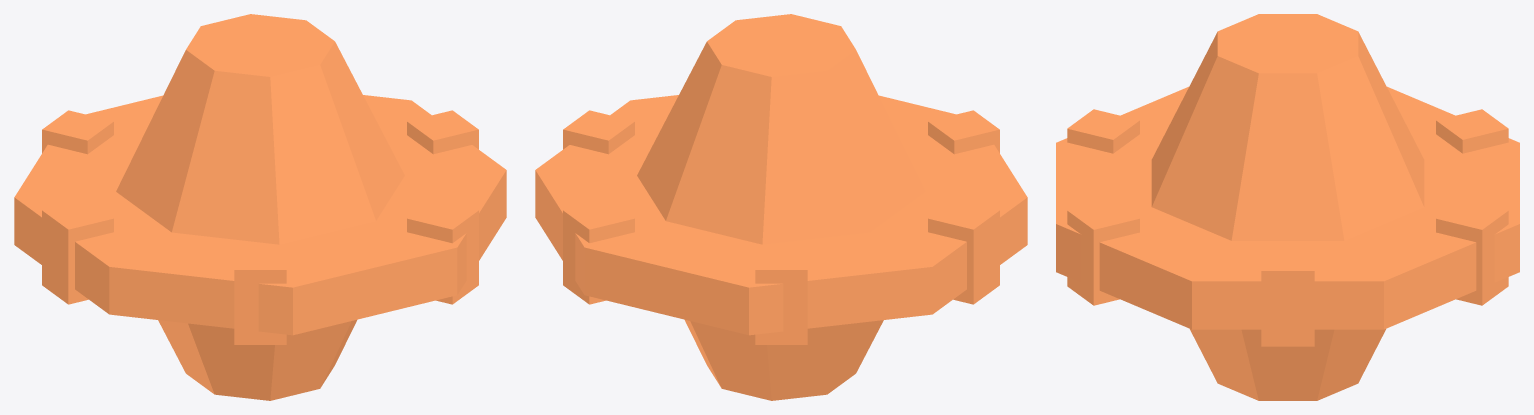
File: enemy_projectile_lobbed.glb
3 renders of one model, left to right at view 1: azimuth 30°, elevation 25°; view 2: azimuth 150°, elevation 25°; view 3: azimuth 270°, elevation 25°, orthographic.
Visible parts, largest first — view 1: enemy_projectile_lobbed; view 2: enemy_projectile_lobbed; view 3: enemy_projectile_lobbed.
Boxes of the visible parts, x1,y1,x2,y2 form: enemy_projectile_lobbed: [14, 14, 506, 400]; enemy_projectile_lobbed: [535, 14, 1027, 400]; enemy_projectile_lobbed: [1056, 14, 1519, 400].
Size of the model in its own units: 0.63 by 0.4752 by 0.6098.
